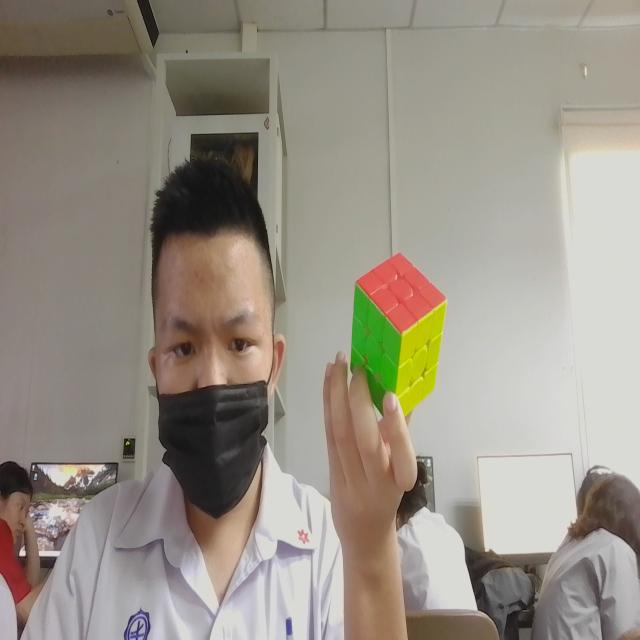rubik: (344, 240, 450, 423)
